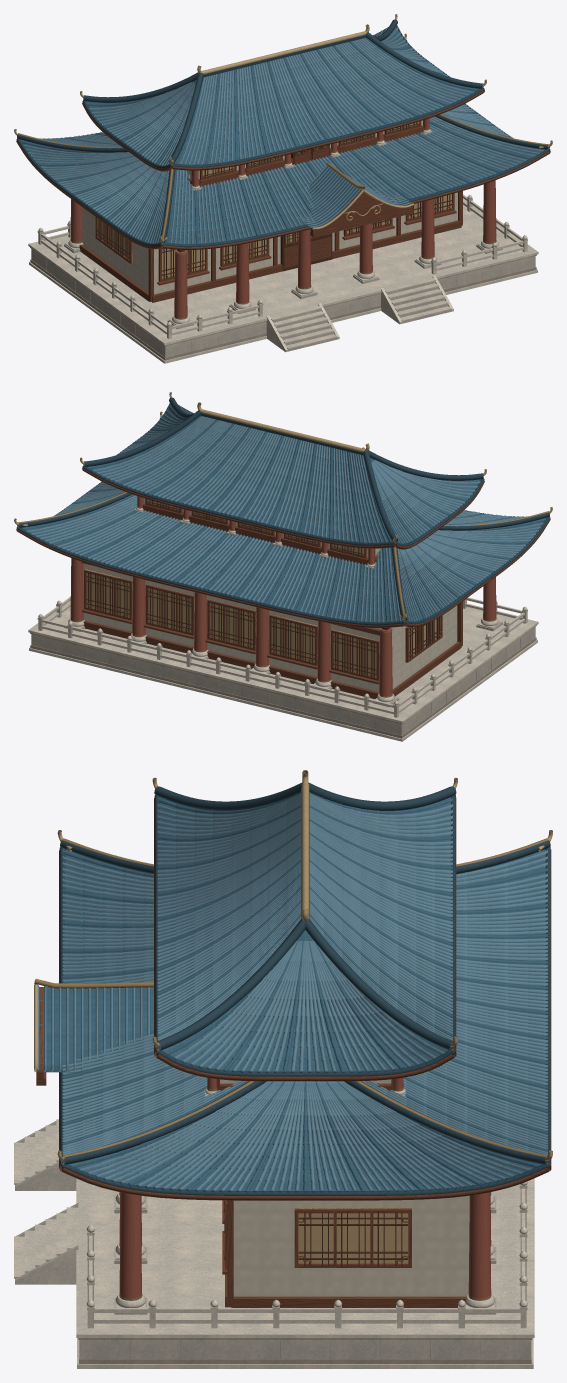
3 views of the same model, one above another, from view 1: azimuth 30°, elevation 25°; view 2: azimuth 150°, elevation 25°; view 3: azimuth 270°, elevation 25° (orthographic). The views are drawn at different scales.
Parts seen in each view (by area): view 1: TwinApproachTerrace_stonePale, LowerFlyingEaves_tileRound, UpperRoof_tileRound, LowerFlyingEaves_glaze, UpperRoof_glaze, DeepPorticoHall_heartwood, TwinApproachTerrace_stone, DeepPorticoHall_lacquer, UpperRoof_shadowTile, DeepPorticoHall_lime, LowerFlyingEaves_shadowTile, DeepPorticoHall_walnut (+14 smaller); view 2: LowerFlyingEaves_tileRound, UpperRoof_tileRound, LowerFlyingEaves_glaze, UpperRoof_glaze, TwinApproachTerrace_stonePale, DeepPorticoHall_heartwood, TwinApproachTerrace_stone, DeepPorticoHall_silk, DeepPorticoHall_lime, DeepPorticoHall_walnut, DeepPorticoHall_lacquer, UpperRoof_shadowTile (+9 smaller); view 3: LowerFlyingEaves_tileRound, UpperRoof_tileRound, TwinApproachTerrace_stonePale, LowerFlyingEaves_glaze, UpperRoof_glaze, DeepPorticoHall_lime, UpperRoof_shadowTile, LowerFlyingEaves_shadowTile, TwinApproachTerrace_stone, DeepPorticoHall_heartwood, EntranceGable_glaze, DeepPorticoHall_lacquer (+9 smaller).
Part boxes in pixels (x1,y1,x2,y2): TwinApproachTerrace_stonePale: (28, 194, 538, 363); LowerFlyingEaves_tileRound: (23, 104, 544, 243); UpperRoof_tileRound: (89, 27, 474, 165); LowerFlyingEaves_glaze: (21, 104, 545, 244); UpperRoof_glaze: (86, 27, 479, 165); DeepPorticoHall_heartwood: (79, 191, 462, 302); TwinApproachTerrace_stone: (31, 249, 535, 357); DeepPorticoHall_lacquer: (70, 180, 496, 318); UpperRoof_shadowTile: (82, 19, 484, 168); DeepPorticoHall_lime: (82, 192, 457, 294); LowerFlyingEaves_shadowTile: (16, 39, 550, 247); DeepPorticoHall_walnut: (96, 194, 452, 279); LowerFlyingEaves_tileRound: (27, 482, 543, 621); UpperRoof_tileRound: (92, 406, 480, 543); LowerFlyingEaves_glaze: (21, 482, 545, 622); UpperRoof_glaze: (87, 405, 480, 543); TwinApproachTerrace_stonePale: (28, 597, 538, 741); DeepPorticoHall_heartwood: (81, 562, 462, 699); TwinApproachTerrace_stone: (31, 627, 535, 735); DeepPorticoHall_silk: (85, 569, 440, 679); DeepPorticoHall_lime: (83, 563, 457, 691); DeepPorticoHall_walnut: (86, 572, 441, 678); DeepPorticoHall_lacquer: (70, 558, 496, 696); UpperRoof_shadowTile: (82, 397, 484, 546); LowerFlyingEaves_tileRound: (61, 850, 547, 1190); UpperRoof_tileRound: (157, 793, 452, 1071); TwinApproachTerrace_stonePale: (14, 1119, 534, 1368); LowerFlyingEaves_glaze: (62, 849, 547, 1190); UpperRoof_glaze: (157, 792, 452, 1071); DeepPorticoHall_lime: (233, 1195, 469, 1296); UpperRoof_shadowTile: (154, 782, 456, 1076); LowerFlyingEaves_shadowTile: (59, 840, 550, 1195); TwinApproachTerrace_stone: (15, 1161, 530, 1358); DeepPorticoHall_heartwood: (222, 1200, 466, 1307); EntranceGable_glaze: (39, 987, 153, 1072); DeepPorticoHall_lacquer: (119, 1192, 491, 1298).
Bounding box in the file's own units: 20.98 × 11.4 × 14.82.
Materials: 14 (14 with a texture image).
